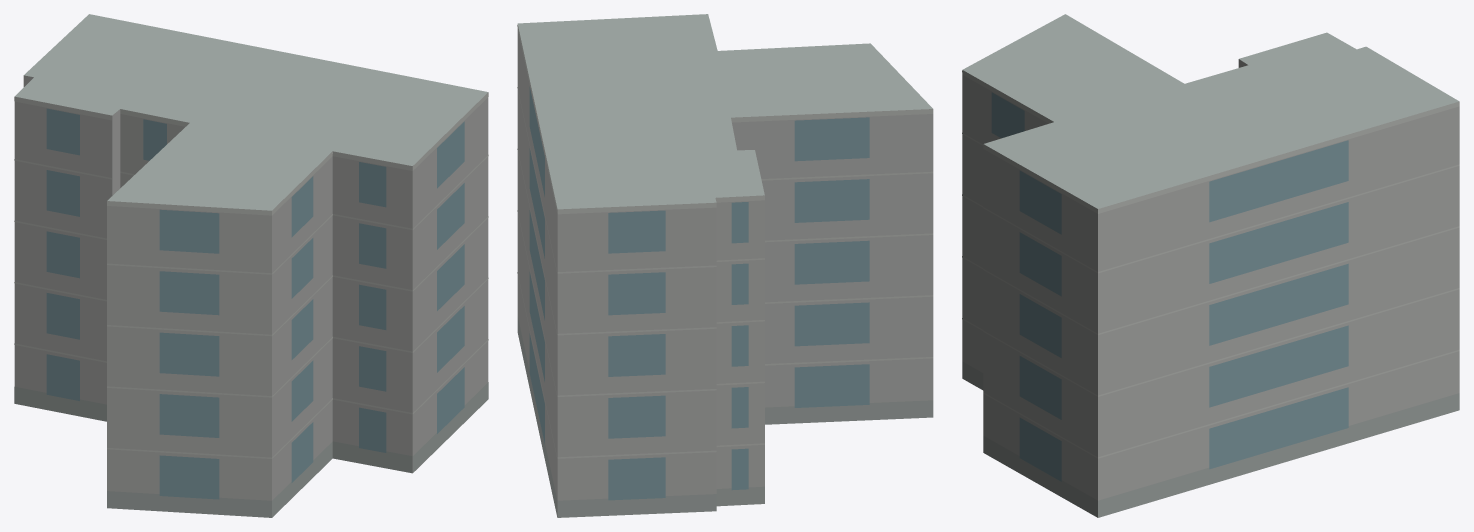
Rendered from survey-upis-32718853.glb.
3 renders of one model, left to right at view 1: azimuth 30°, elevation 25°; view 2: azimuth 150°, elevation 25°; view 3: azimuth 270°, elevation 25°, orthographic.
Parts seen in each view (by area): view 1: survey-upis-32718853.tmp; view 2: survey-upis-32718853.tmp; view 3: survey-upis-32718853.tmp.
Boxes of the visible parts, x1,y1,x2,y2 form: survey-upis-32718853.tmp: [14, 14, 488, 517]; survey-upis-32718853.tmp: [517, 14, 933, 517]; survey-upis-32718853.tmp: [962, 14, 1459, 517].
Size of the model in its own units: 20.68 by 15.25 by 22.28.
